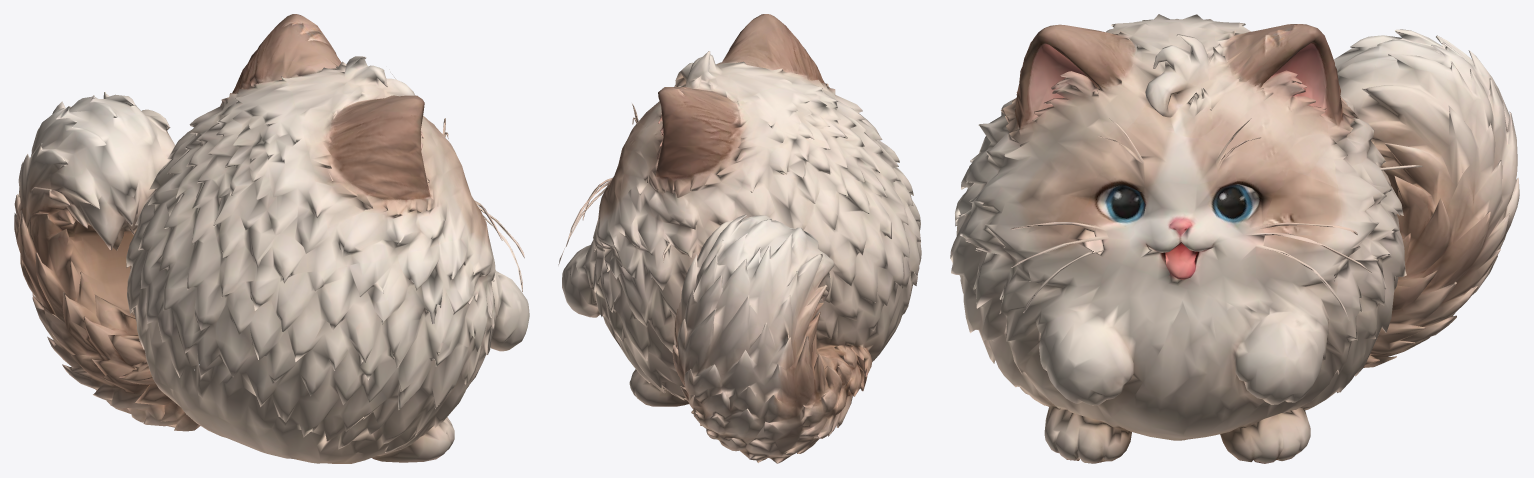
The model's file is CAT_L03.glb.
3 renders of one model, left to right at view 1: azimuth 30°, elevation 25°; view 2: azimuth 150°, elevation 25°; view 3: azimuth 270°, elevation 25°, orthographic. The views are drawn at different scales.
Parts seen in each view (by area): view 1: tripo_node_56a7778e-5c89-4f9e-a4af-a170ceca9b16; view 2: tripo_node_56a7778e-5c89-4f9e-a4af-a170ceca9b16; view 3: tripo_node_56a7778e-5c89-4f9e-a4af-a170ceca9b16.
Boxes of the visible parts, <box> form: tripo_node_56a7778e-5c89-4f9e-a4af-a170ceca9b16: <box>14,14,529,463</box>; tripo_node_56a7778e-5c89-4f9e-a4af-a170ceca9b16: <box>558,14,921,463</box>; tripo_node_56a7778e-5c89-4f9e-a4af-a170ceca9b16: <box>950,14,1519,463</box>.
Bounding box in the file's own units: 0.774 × 0.7892 × 0.9794.
1 material, 1 textured.
